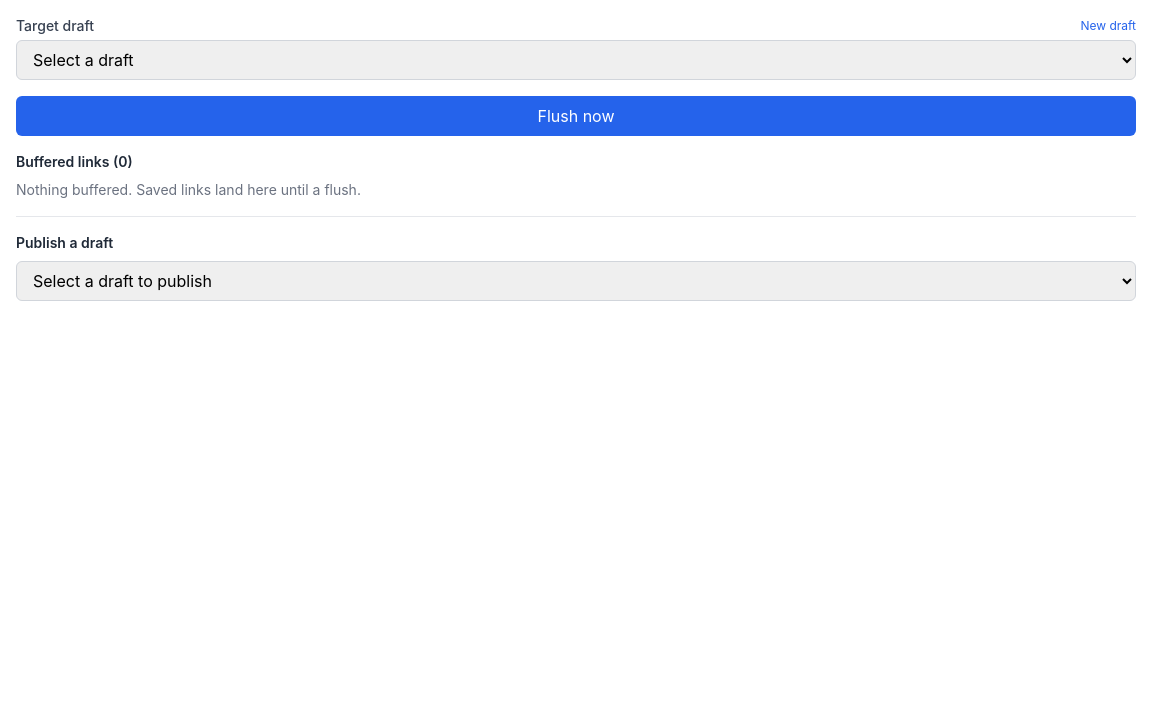
Test: Queue publish gate › offers a review belonging to another draft to nobody
Select "2025-06-20-on AI.md" in the 2nd dropdown: (576, 281) [16,261,1136,301]
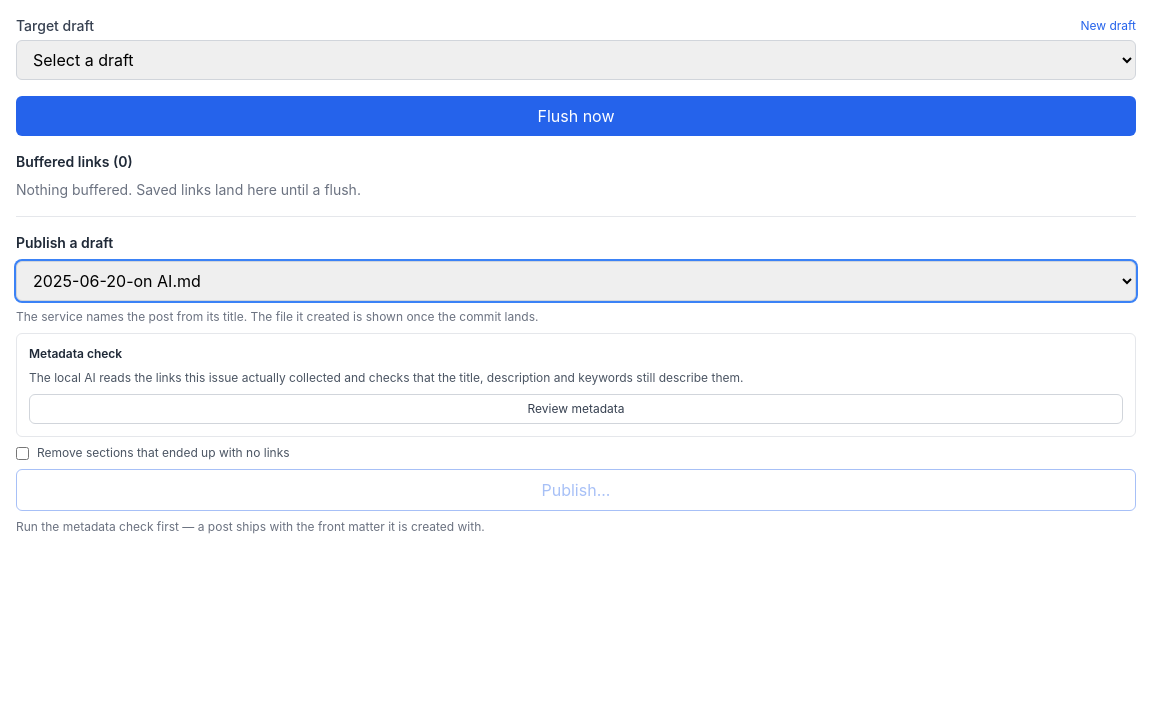
Check: the button "Publish..." is disabled, box [16,469,1136,511]
